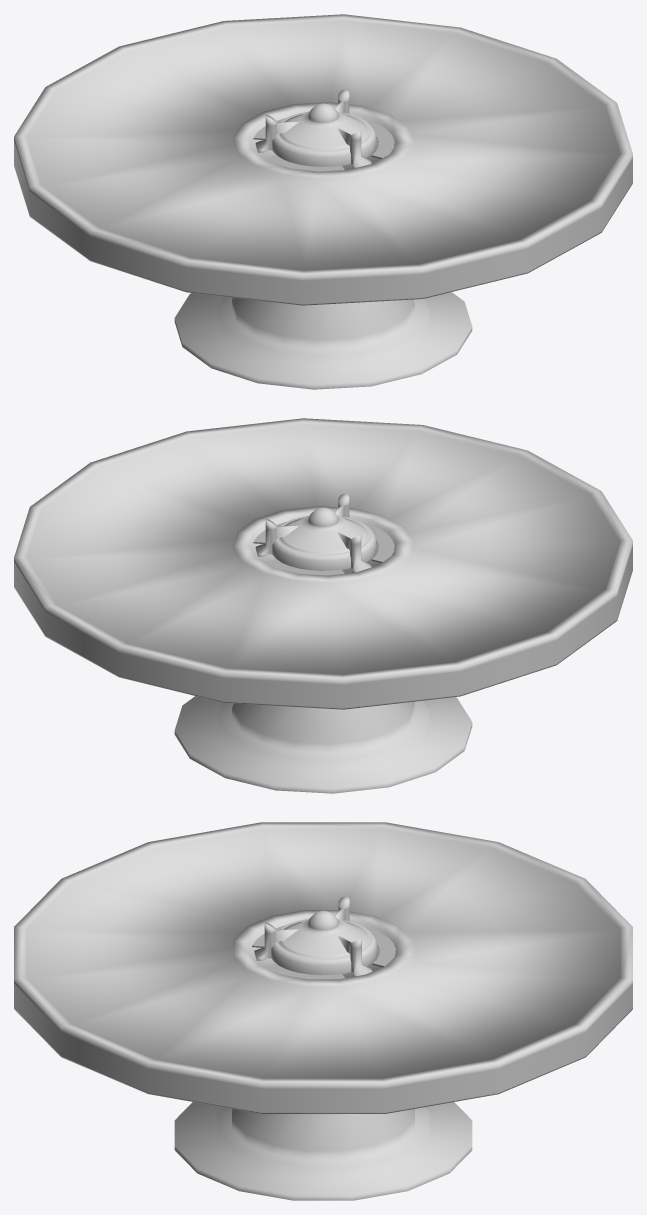
Rendered from lowpoly_table.fbx.
The picture shows the model from 3 angles, top to bottom: view 1: azimuth 30°, elevation 25°; view 2: azimuth 150°, elevation 25°; view 3: azimuth 270°, elevation 25°; orthographic projection.
Parts seen in each view (by area): view 1: Table, Middle, Pillers, roundTable_lowPoly.005; view 2: Table, Middle, Pillers, roundTable_lowPoly.005; view 3: Table, Middle, Pillers, roundTable_lowPoly.005.
Boxes of the visible parts, bbox=[...] form: Table: bbox=[14, 14, 632, 389]; Middle: bbox=[272, 103, 376, 166]; Pillers: bbox=[255, 89, 371, 168]; roundTable_lowPoly.005: bbox=[253, 118, 394, 171]; Table: bbox=[14, 418, 632, 793]; Middle: bbox=[272, 507, 376, 570]; Pillers: bbox=[255, 493, 371, 572]; roundTable_lowPoly.005: bbox=[253, 522, 394, 575]; Table: bbox=[14, 822, 632, 1200]; Middle: bbox=[271, 910, 377, 975]; Pillers: bbox=[254, 896, 372, 976]; roundTable_lowPoly.005: bbox=[252, 925, 395, 979].
Size of the model in its own units: 216 by 87.01 by 216.
